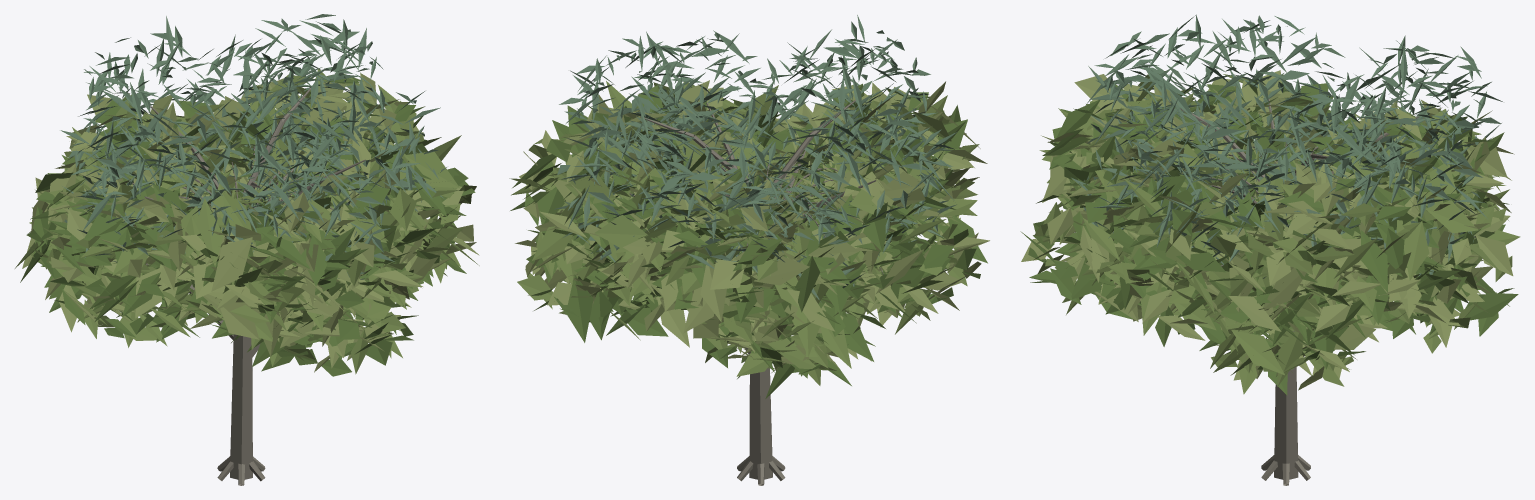
File: urban-trees.glb
The picture shows the model from 3 angles, left to right: view 1: azimuth 30°, elevation 25°; view 2: azimuth 150°, elevation 25°; view 3: azimuth 270°, elevation 25°; orthographic projection. The views are drawn at different scales.
Visible parts, largest first — view 1: plane, elm, gum, palm; view 2: plane, elm, gum, palm; view 3: elm, plane, gum, palm.
Part boxes in pixels (x1=…): plane: x1=15, y1=74, x2=462, y2=366; elm: x1=22, y1=69, x2=479, y2=485; gum: x1=60, y1=14, x2=446, y2=279; palm: x1=101, y1=151, x2=332, y2=479; plane: x1=515, y1=80, x2=989, y2=385; elm: x1=509, y1=81, x2=987, y2=485; gum: x1=554, y1=15, x2=956, y2=302; palm: x1=623, y1=150, x2=883, y2=479; elm: x1=1020, y1=70, x2=1509, y2=485; plane: x1=1039, y1=71, x2=1520, y2=394; gum: x1=1071, y1=14, x2=1502, y2=278; palm: x1=1180, y1=141, x2=1332, y2=479.
Bounding box in the file's own units: 11.39 × 11 × 11.49.
